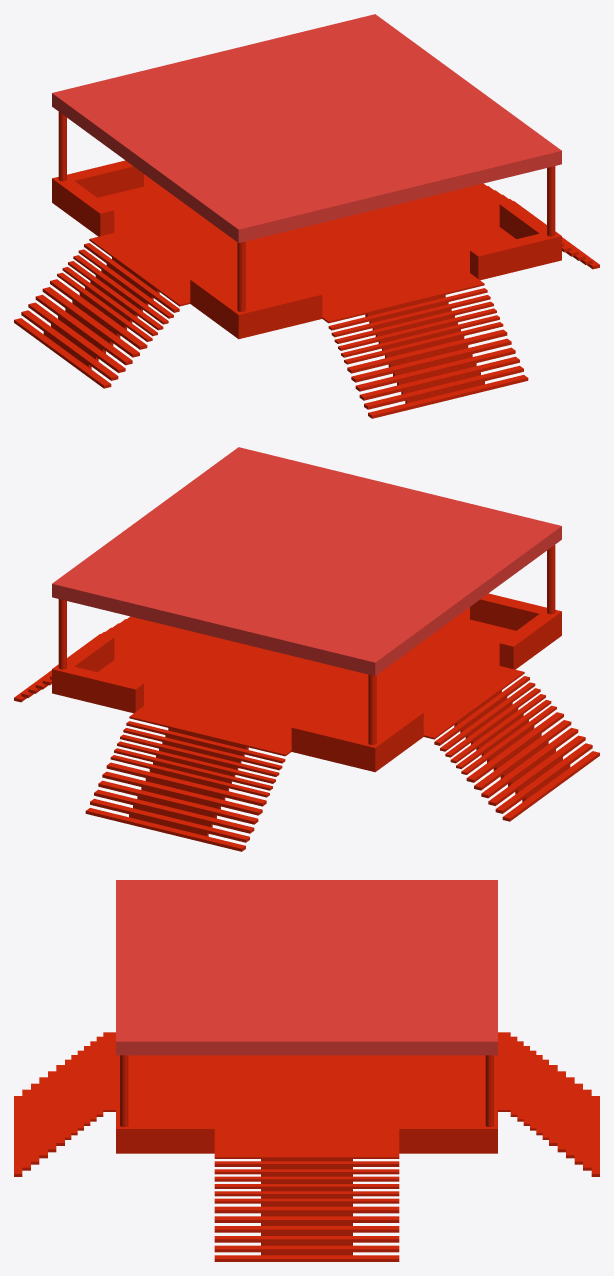
Rendered from EscalerasCentrales5.fbx.
3 views of the same model, one above another, from view 1: azimuth 30°, elevation 25°; view 2: azimuth 150°, elevation 25°; view 3: azimuth 270°, elevation 25° (orthographic). The views are drawn at different scales.
Visible parts, largest first — view 1: Cube, Cube.002; view 2: Cube, Cube.002; view 3: Cube, Cube.002.
Part boxes in pixels (<box>): Cube: <box>14,112,599,418</box>; Cube.002: <box>52,14,561,242</box>; Cube: <box>14,545,599,851</box>; Cube.002: <box>52,447,561,675</box>; Cube: <box>14,1032,599,1261</box>; Cube.002: <box>116,880,497,1055</box>.
Size of the model in its own units: 3450 by 1152 by 3450.
